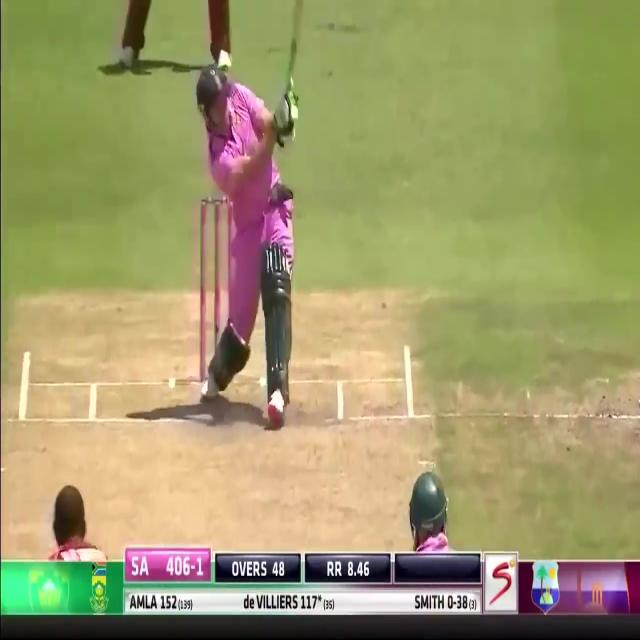Ball: (188, 56, 295, 428)
